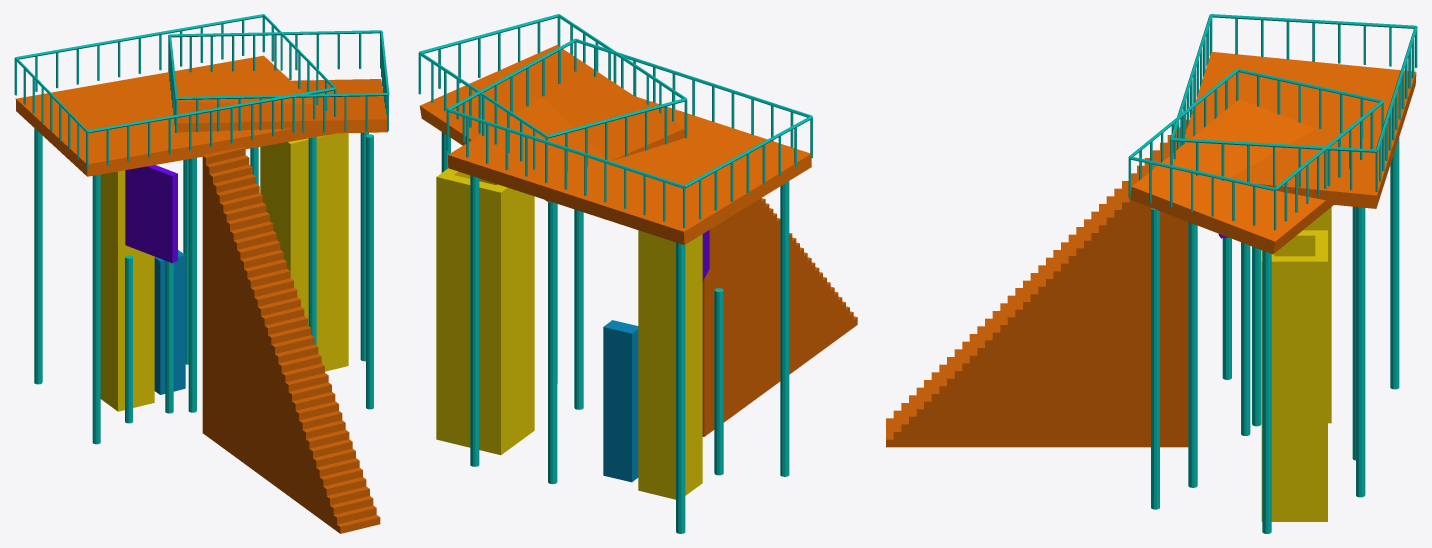
File: folie_tag_044.glb
3 renders of one model, left to right at view 1: azimuth 30°, elevation 25°; view 2: azimuth 150°, elevation 25°; view 3: azimuth 270°, elevation 25°, orthographic. The views are drawn at different scales.
Visible parts, largest first — view 1: folie_tag_044_stairs, folie_tag_044_line, folie_tag_044_00_plate, folie_tag_044_02_tower, folie_tag_044_core, folie_tag_044_01_plate, folie_tag_044_03_panel, folie_tag_044_04_fin; view 2: folie_tag_044_line, folie_tag_044_00_plate, folie_tag_044_02_tower, folie_tag_044_stairs, folie_tag_044_core, folie_tag_044_01_plate, folie_tag_044_04_fin; view 3: folie_tag_044_stairs, folie_tag_044_line, folie_tag_044_00_plate, folie_tag_044_02_tower, folie_tag_044_01_plate, folie_tag_044_core.
Boxes of the visible parts, x1=… form: folie_tag_044_stairs: x1=202, y1=147, x2=380, y2=533; folie_tag_044_line: x1=14, y1=14, x2=389, y2=444; folie_tag_044_00_plate: x1=15, y1=55, x2=334, y2=176; folie_tag_044_02_tower: x1=260, y1=133, x2=348, y2=371; folie_tag_044_core: x1=100, y1=170, x2=154, y2=411; folie_tag_044_01_plate: x1=177, y1=79, x2=387, y2=133; folie_tag_044_03_panel: x1=125, y1=165, x2=177, y2=263; folie_tag_044_04_fin: x1=154, y1=250, x2=185, y2=394; folie_tag_044_line: x1=418, y1=14, x2=812, y2=533; folie_tag_044_00_plate: x1=448, y1=96, x2=811, y2=244; folie_tag_044_02_tower: x1=436, y1=168, x2=534, y2=455; folie_tag_044_stairs: x1=702, y1=198, x2=857, y2=436; folie_tag_044_core: x1=638, y1=230, x2=702, y2=499; folie_tag_044_01_plate: x1=419, y1=45, x2=684, y2=202; folie_tag_044_04_fin: x1=603, y1=320, x2=638, y2=482; folie_tag_044_stairs: x1=886, y1=119, x2=1189, y2=447; folie_tag_044_line: x1=1128, y1=14, x2=1417, y2=533; folie_tag_044_00_plate: x1=1181, y1=52, x2=1416, y2=208; folie_tag_044_02_tower: x1=1261, y1=230, x2=1327, y2=521; folie_tag_044_01_plate: x1=1129, y1=99, x2=1333, y2=254; folie_tag_044_core: x1=1303, y1=207, x2=1331, y2=423.
Size of the model in its own units: 9.82 by 9.26 by 12.58.
